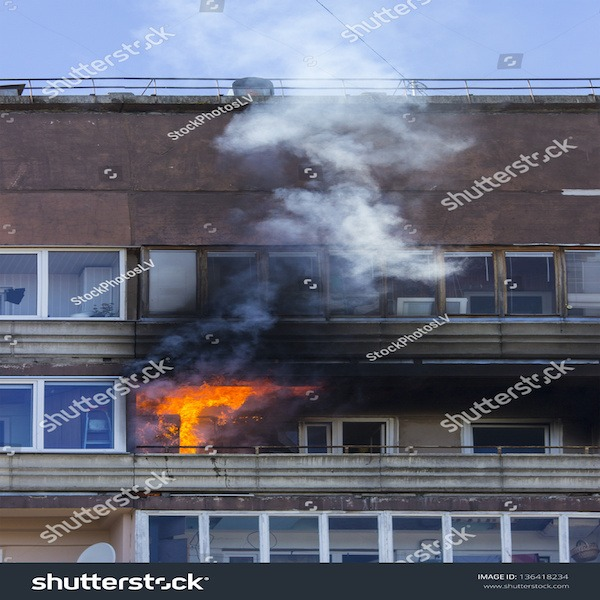fire: (157, 385, 252, 454)
